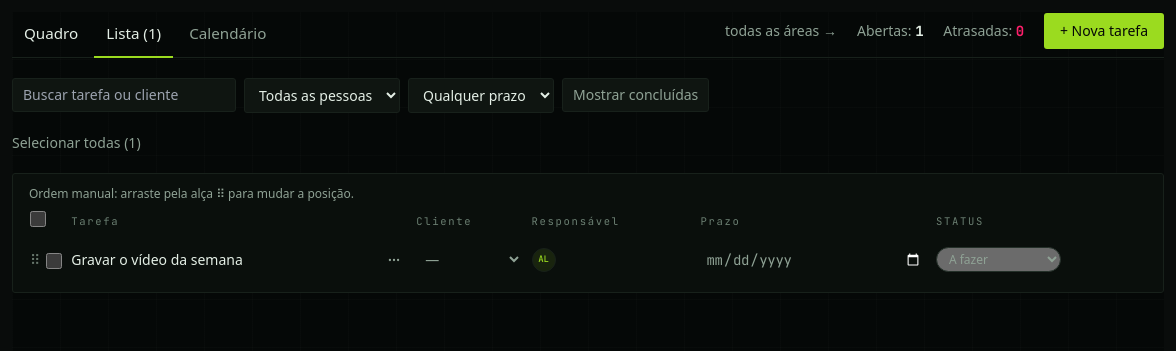
Test: TarefasDoDia no padrão do Trabalho › concluídas ficam escondidas até "Mostrar concluídas", que vai para o endereço
Expected: the text "Gravar o vídeo da semana" is shown, 71,250 -> 403,270
Expected: the text "Fechar o relatório de setembro" is not shown
Click the button with test id "dia-concluidas" at x=636, y=95, box 562,78 -> 709,112
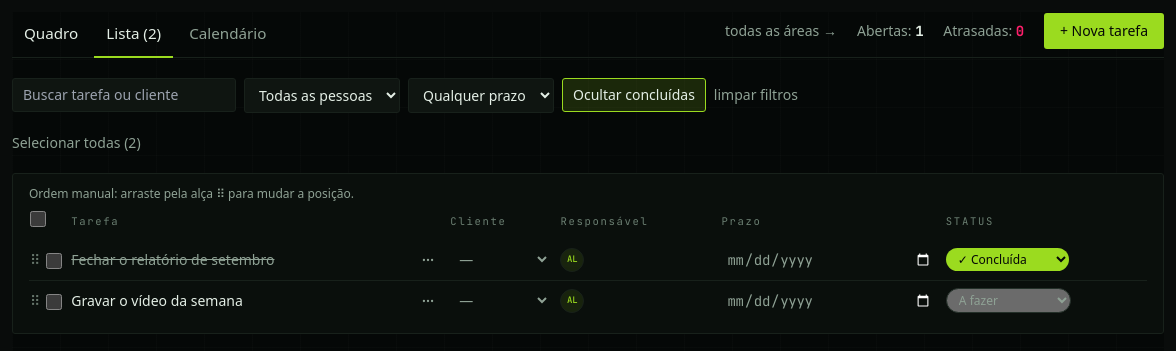
Expected: the text "Fechar o relatório de setembro" is shown, 71,250 -> 437,270
